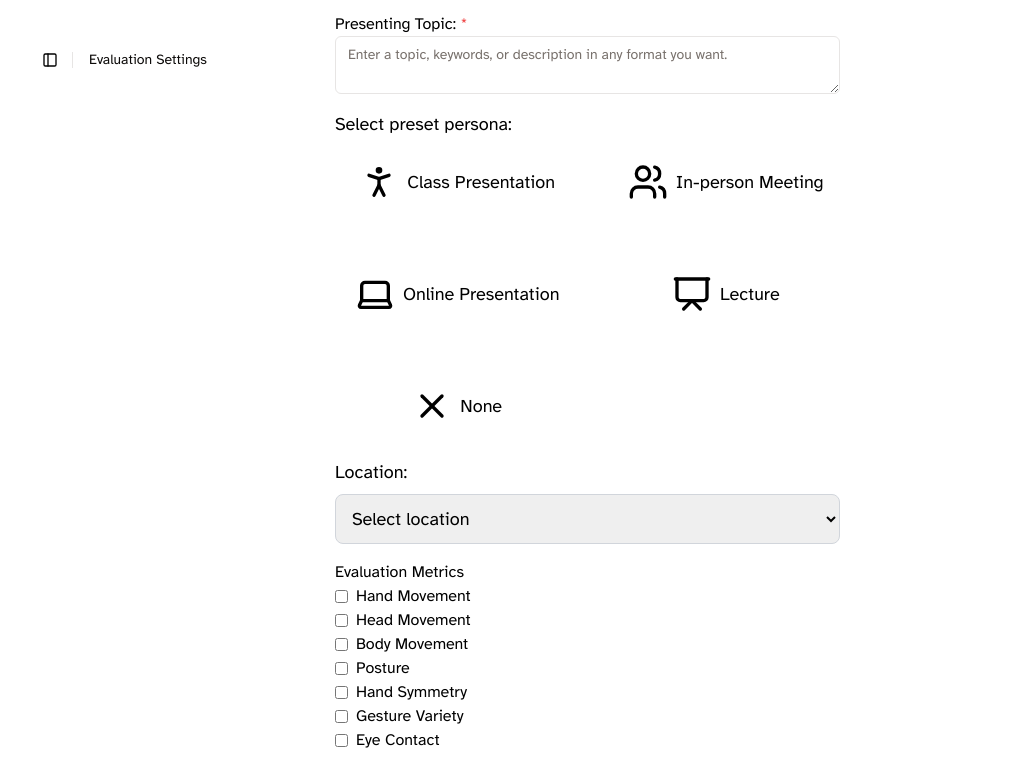
Test: Page Component › updates form state when selecting online persona
What coordinates should you click on to do the following:
click the button "Online Presentation"
I would click on:
 (453, 294)
Its box is [335,250,572,338].
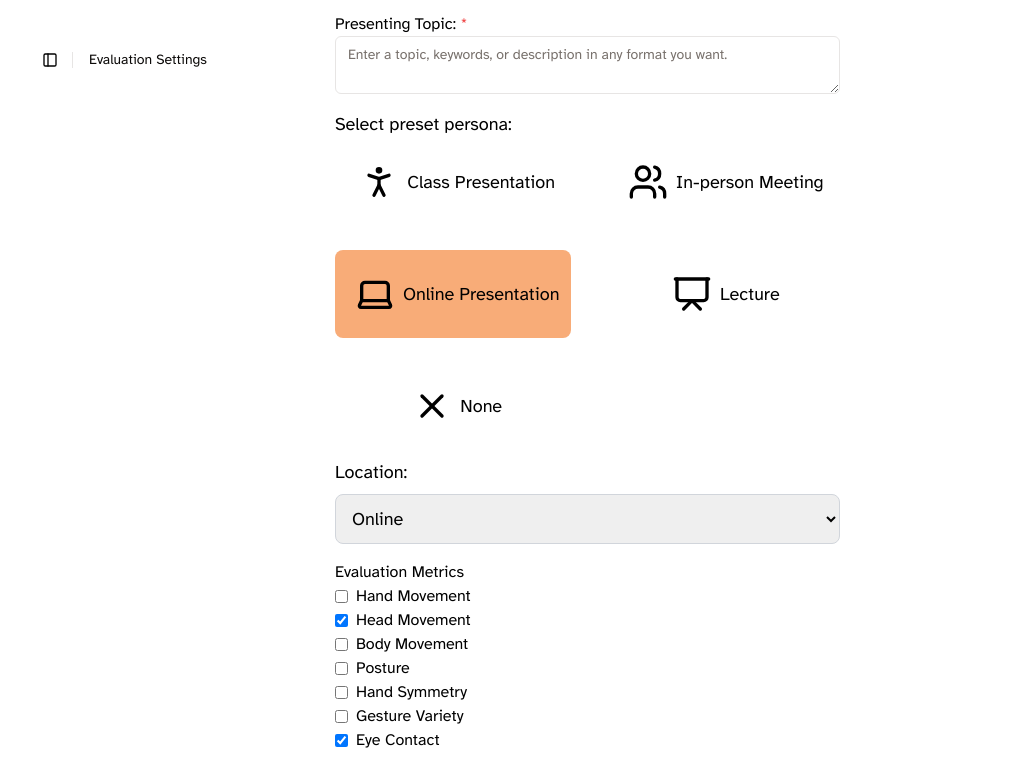
Expected: the dropdown labelled "Location:" shows "Online", [335,494,840,544]
Expected: the checkbox labelled "Head Movement" is checked, [335,614,348,626]
